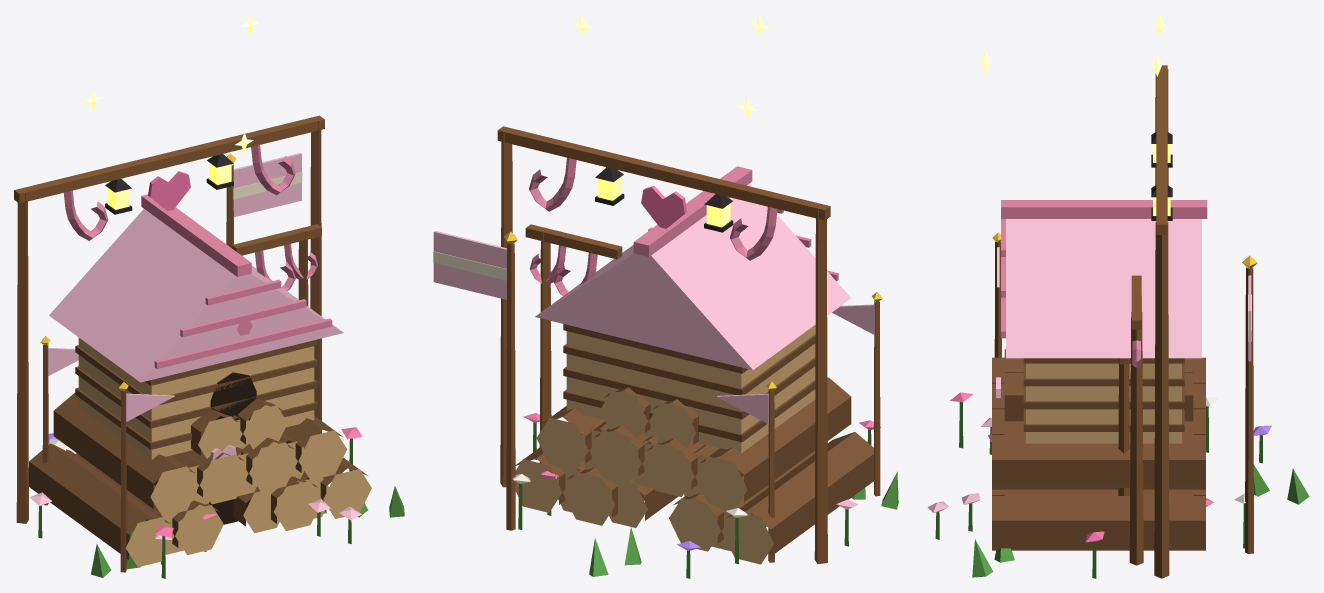
File: opossum-woodpile-hollow.glb
3 views of the same model, side by side, from view 1: azimuth 30°, elevation 25°; view 2: azimuth 150°, elevation 25°; view 3: azimuth 270°, elevation 25° (orthographic). The views are drawn at different scales.
Parts seen in each view (by area): view 1: lv3, lv2; view 2: lv3, lv2; view 3: lv3, lv2, lv1.
Boxes of the visible parts, <box> form: lv3: <box>14,14,404,578</box>; lv2: <box>40,224,367,569</box>; lv3: <box>433,14,898,578</box>; lv2: <box>525,224,865,565</box>; lv3: <box>927,14,1309,578</box>; lv2: <box>962,275,1269,565</box>; lv1: <box>988,358,1129,495</box>.
Size of the model in its own units: 1.63 by 2.14 by 1.52.
